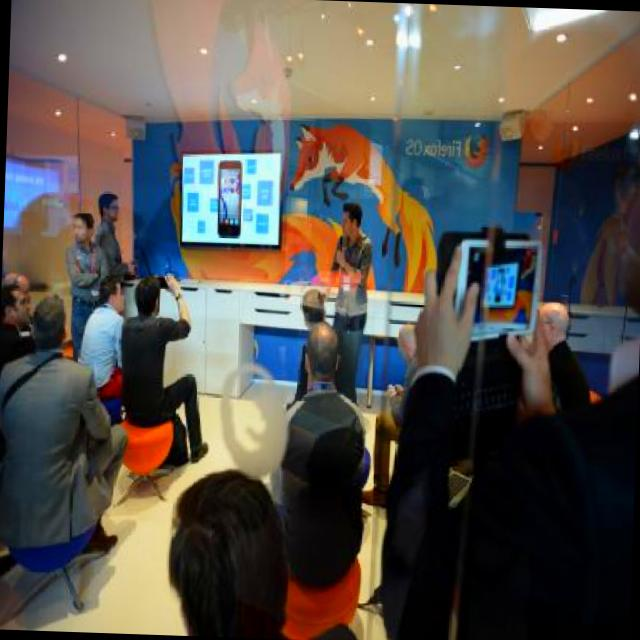Person: (375, 237, 640, 640), (0, 265, 123, 606), (163, 463, 369, 640), (262, 315, 372, 594), (115, 266, 217, 468), (362, 320, 422, 510), (283, 289, 364, 416), (320, 203, 370, 401), (536, 298, 596, 418), (64, 212, 110, 362), (74, 277, 127, 402), (93, 188, 138, 280), (0, 281, 38, 387), (1, 274, 37, 326)
